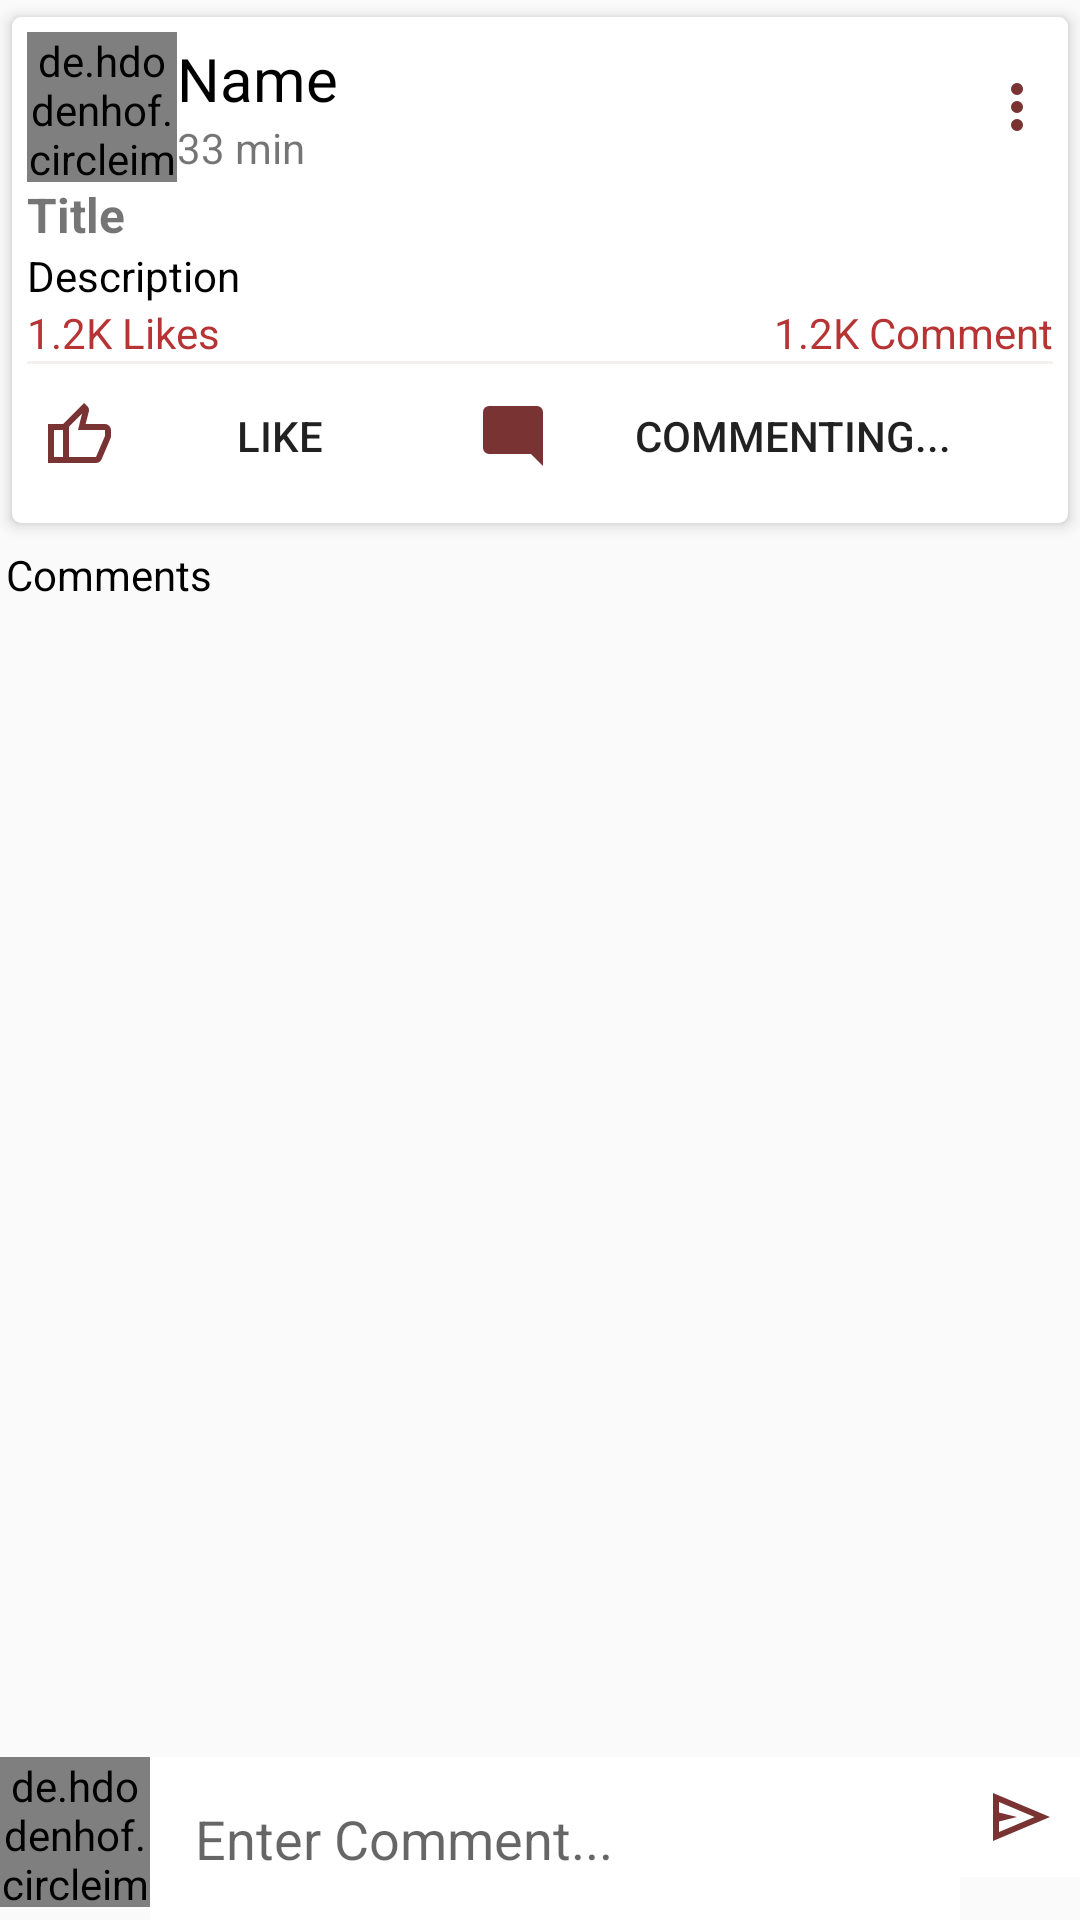

Point at icon controls on the screen. Image size 1080*1920, points as (x=x, y=y).
More: (x=1017, y=107)
Send Comment: (x=1021, y=1817)
